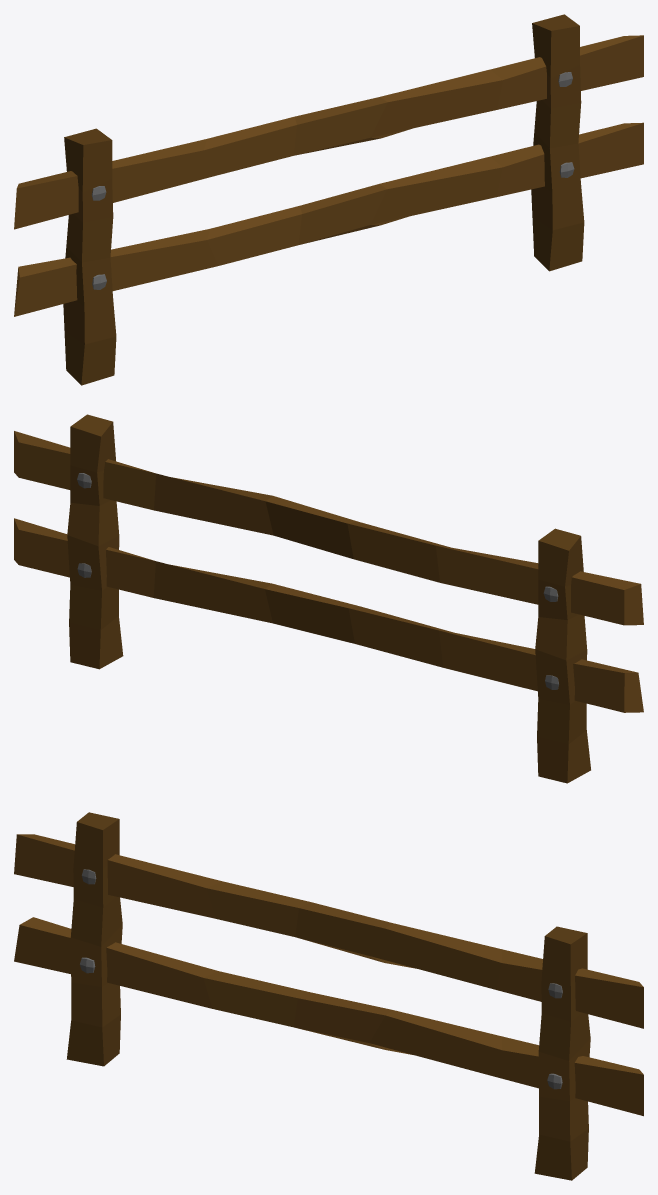
The model's file is plot2.fbx.
The picture shows the model from 3 angles, top to bottom: view 1: azimuth 30°, elevation 25°; view 2: azimuth 150°, elevation 25°; view 3: azimuth 330°, elevation 25°; orthographic projection.
Visible parts, largest first — view 1: Cube.003, Cube.001, Cube, Cube.002; view 2: Cube.001, Cube.003, Cube.002, Cube; view 3: Cube.001, Cube.003, Cube, Cube.002.
Boxes of the visible parts, left/top/right/bottom form: Cube.003: left=14, top=122, right=643, bottom=316; Cube.001: left=14, top=35, right=643, bottom=229; Cube: left=63, top=128, right=116, bottom=385; Cube.002: left=531, top=14, right=584, bottom=271; Cube.001: left=14, top=431, right=643, bottom=625; Cube.003: left=14, top=518, right=643, bottom=712; Cube.002: left=67, top=414, right=123, bottom=669; Cube: left=535, top=528, right=590, bottom=783; Cube.001: left=14, top=834, right=643, bottom=1028; Cube.003: left=14, top=917, right=643, bottom=1116; Cube: left=66, top=812, right=122, bottom=1066; Cube.002: left=534, top=926, right=590, bottom=1180.
Bounding box in the file's own units: 426 × 152 × 25.01.
